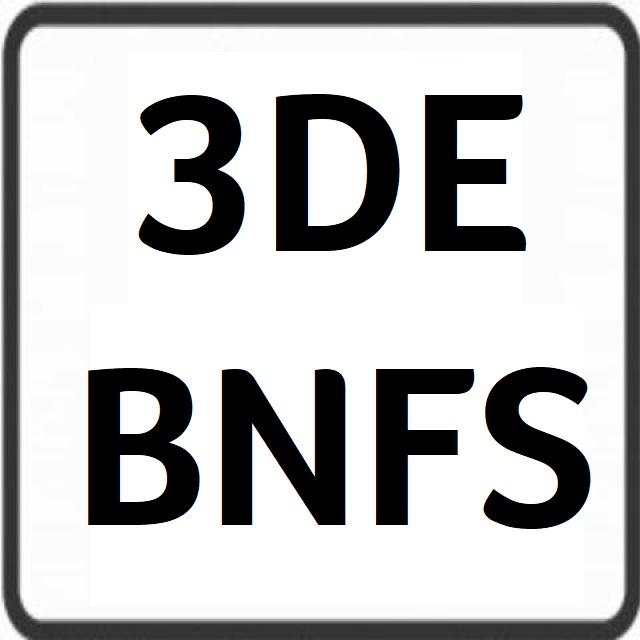B: (78, 348, 203, 546)
D: (272, 85, 404, 268)
E: (422, 74, 536, 271)
F: (371, 342, 473, 530)
N: (212, 341, 349, 537)
S: (485, 345, 595, 531)
